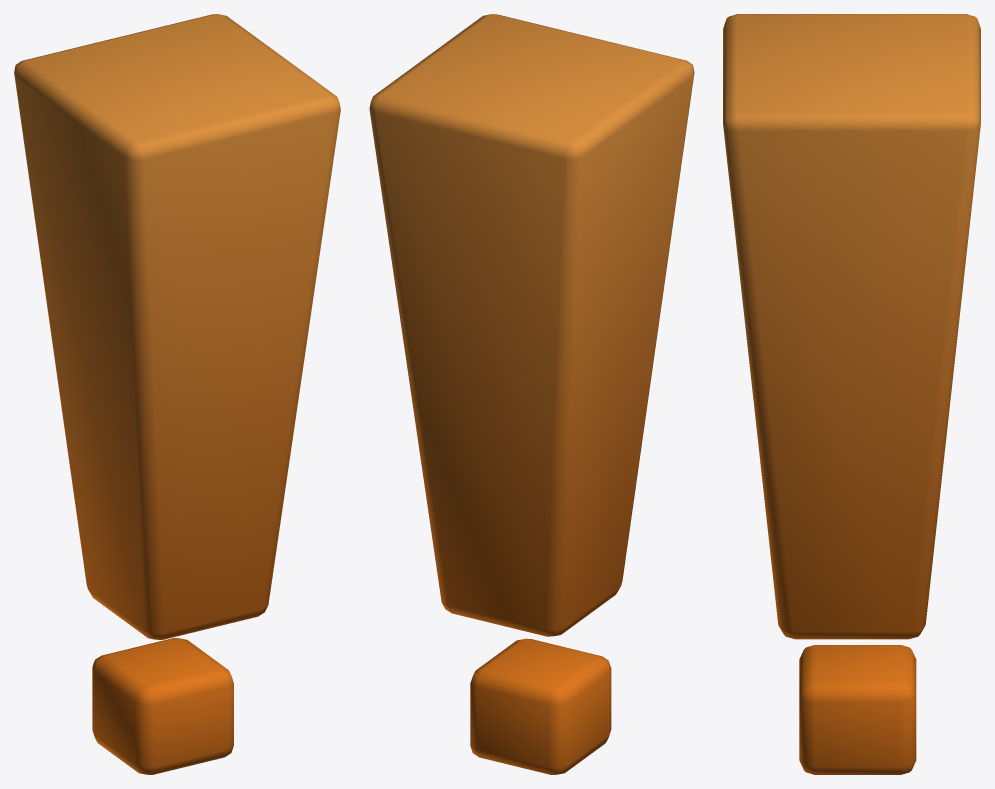
File: SM_Exclamation.glb
The picture shows the model from 3 angles, left to right: view 1: azimuth 30°, elevation 25°; view 2: azimuth 150°, elevation 25°; view 3: azimuth 270°, elevation 25°; orthographic projection. The views are drawn at different scales.
Parts seen in each view (by area): view 1: SM_Asterisk; view 2: SM_Asterisk; view 3: SM_Asterisk.
Part boxes in pixels (x1,y1,x2,y2): SM_Asterisk: (14, 14, 340, 774); SM_Asterisk: (369, 14, 694, 774); SM_Asterisk: (723, 14, 980, 774).
Size of the model in its own units: 0.6772 by 2.03 by 0.6772.
